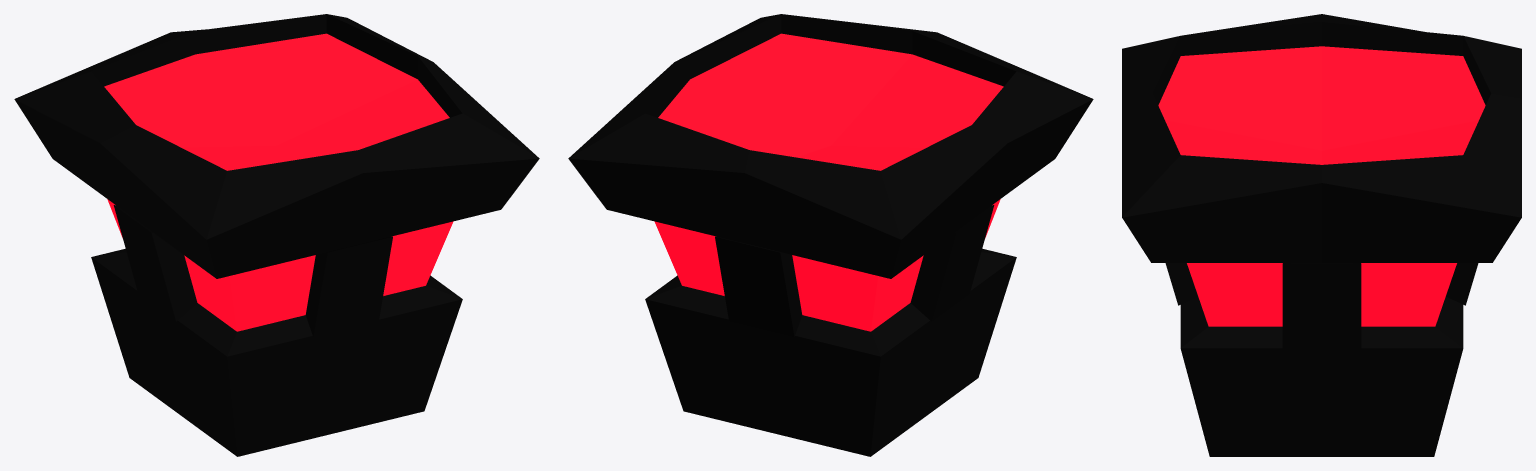
The model's file is ArmCannon.fbx.
3 views of the same model, side by side, from view 1: azimuth 30°, elevation 25°; view 2: azimuth 150°, elevation 25°; view 3: azimuth 270°, elevation 25° (orthographic). The views are drawn at different scales.
Parts seen in each view (by area): view 1: Cube; view 2: Cube; view 3: Cube.
Boxes of the visible parts, <box> form: Cube: <box>14,14,539,456</box>; Cube: <box>568,14,1093,456</box>; Cube: <box>1122,14,1521,456</box>.
Bounding box in the file's own units: 367 × 311 × 356.
